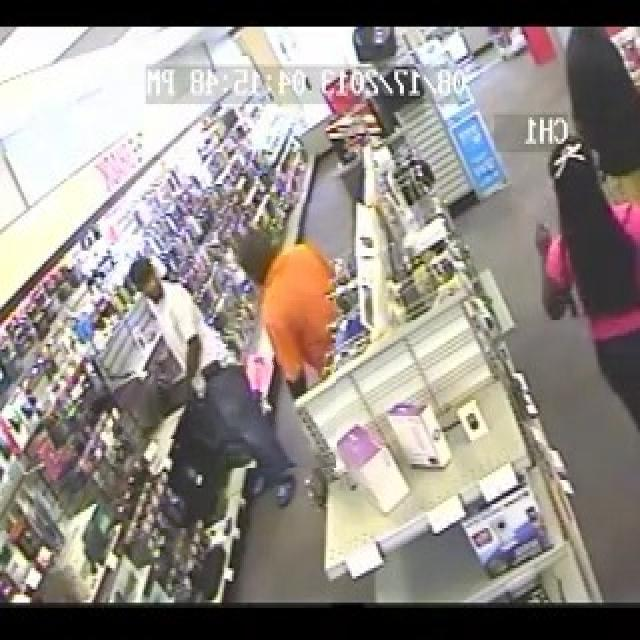normal: (228, 204, 336, 468), (578, 71, 640, 379), (113, 258, 214, 439)
